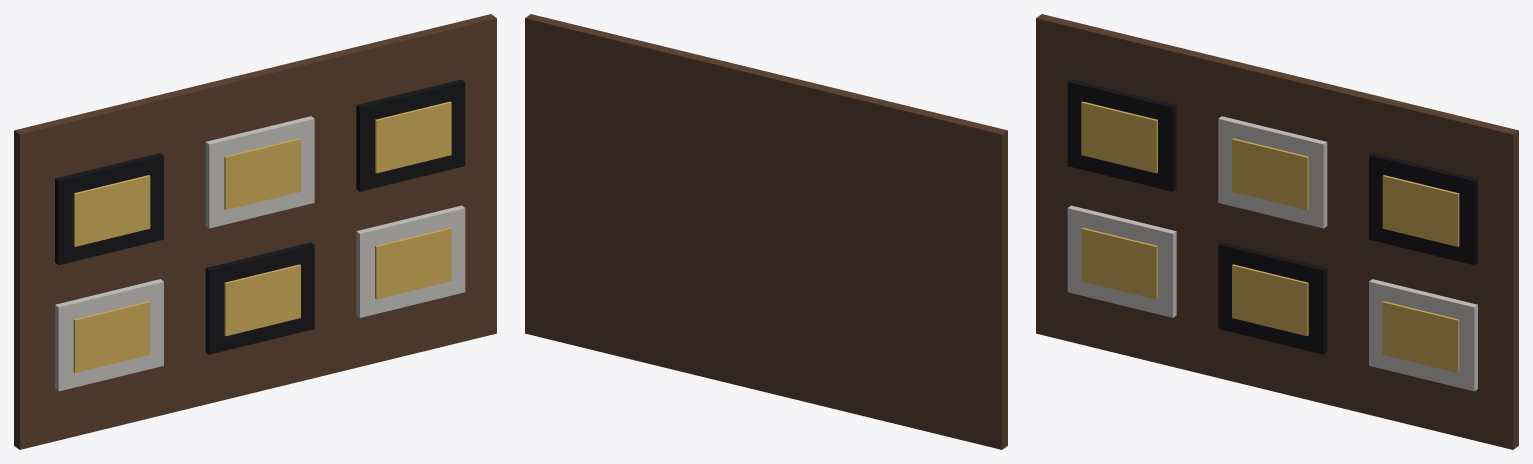
Rendered from parede-premios.glb.
The picture shows the model from 3 angles, left to right: view 1: azimuth 30°, elevation 25°; view 2: azimuth 150°, elevation 25°; view 3: azimuth 330°, elevation 25°; orthographic projection.
Parts seen in each view (by area): view 1: parede-premios_malha; view 2: parede-premios_malha; view 3: parede-premios_malha.
Boxes of the visible parts, left/top/right/bottom form: parede-premios_malha: left=14, top=14, right=496, bottom=449; parede-premios_malha: left=525, top=14, right=1007, bottom=449; parede-premios_malha: left=1036, top=14, right=1518, bottom=449.
Size of the model in its own units: 1.9 by 1.2 by 0.075.
